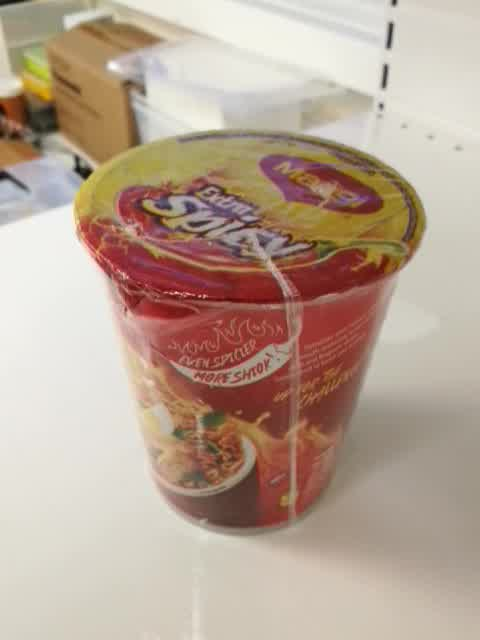maggi: (73, 129, 427, 539)
